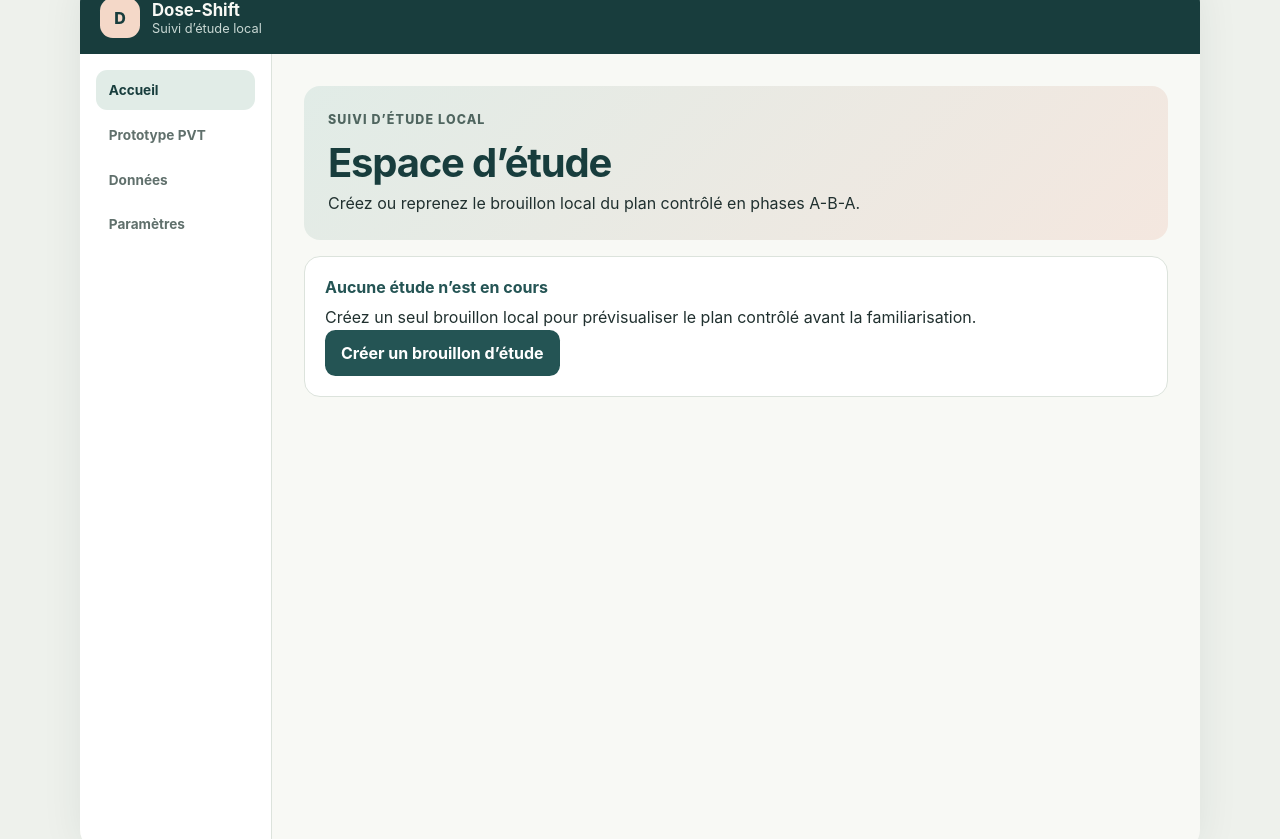
Test: draft study setup › shows localized validation and the non-seven-day notice in French
Click the button "Créer un brouillon d’étude" at [442, 353], box x1=325 y1=330 x2=560 y2=376
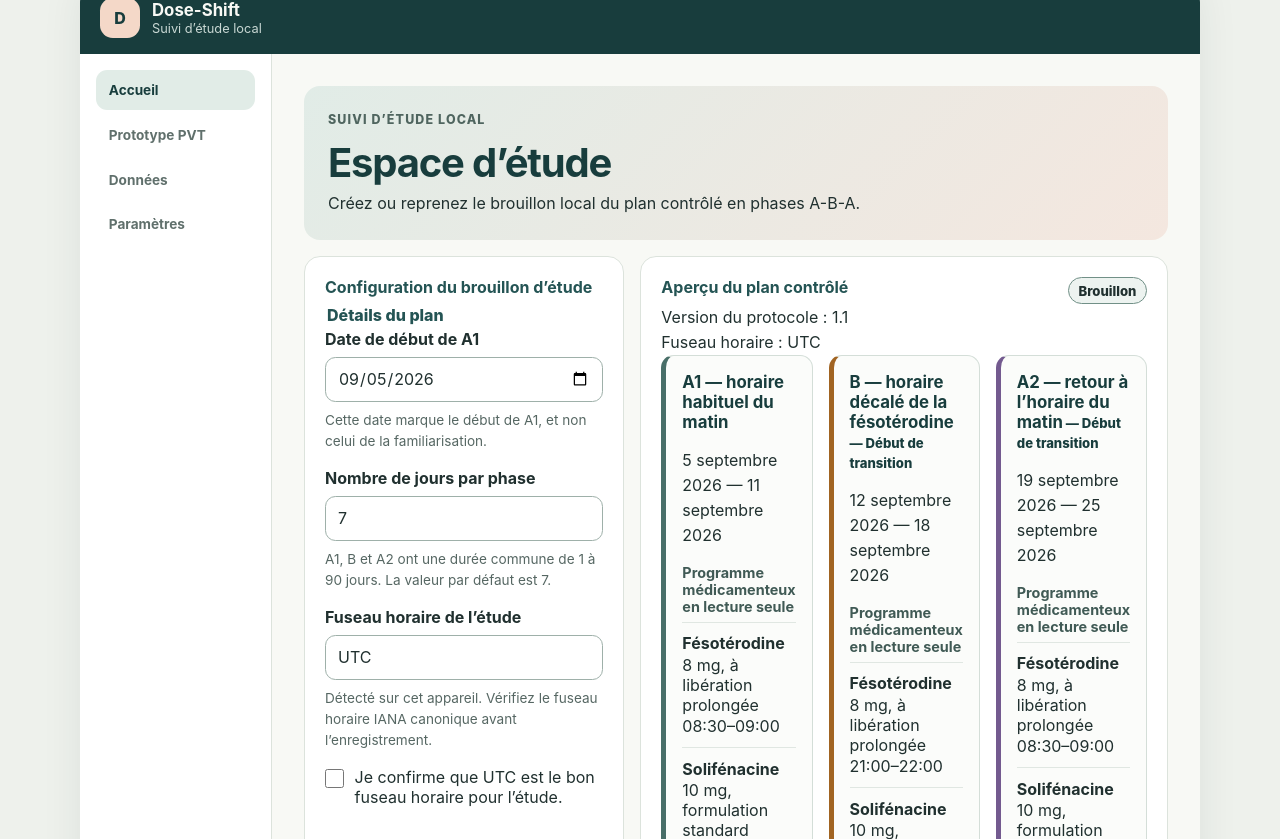
Replace the text in the number field labelled "Nombre de jours par phase" with "1" at [464, 518], box x1=325 y1=496 x2=603 y2=541
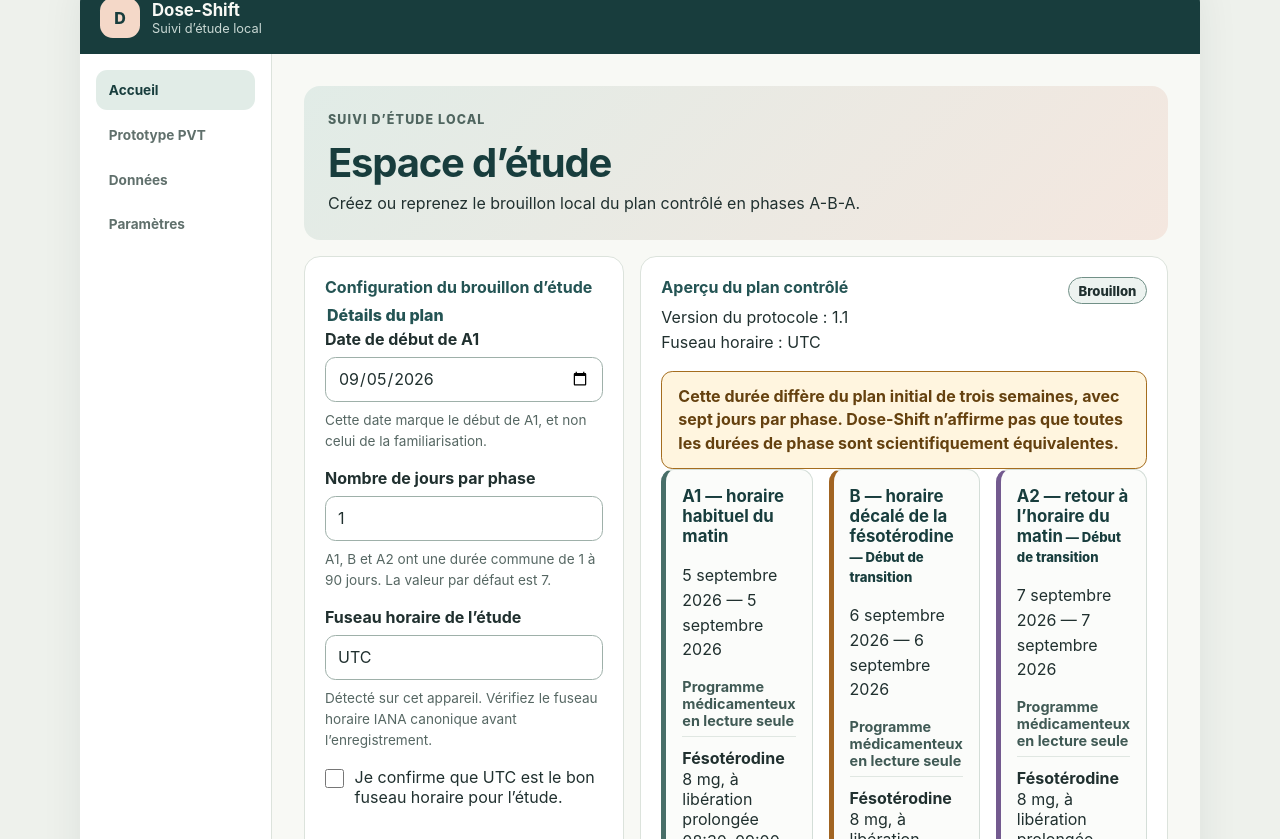
Now the heading "B — horaire décalé de la fésotérodine — Début de transition" is shown, box x1=850 y1=486 x2=963 y2=586
Now the message shows "n’affirme pas que toutes les durées", box x1=678 y1=386 x2=1123 y2=452
Replace the text in the number field labelled "Nombre de jours par phase" with "91" at [464, 518], box x1=325 y1=496 x2=603 y2=541
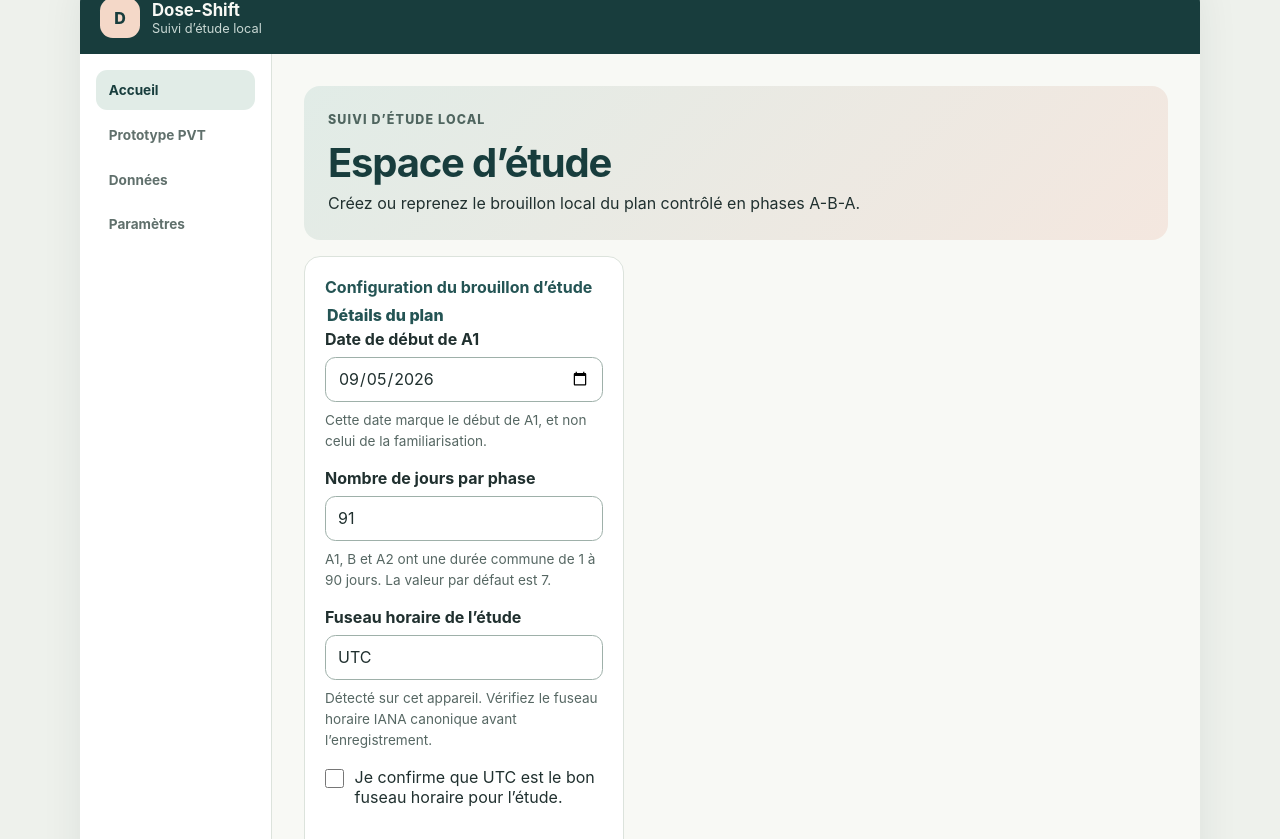
Replace the text in the field labelled "Fuseau horaire de l’étude" with "Invalide/Zone" at [464, 657], box x1=325 y1=635 x2=603 y2=680
(page scrolled)
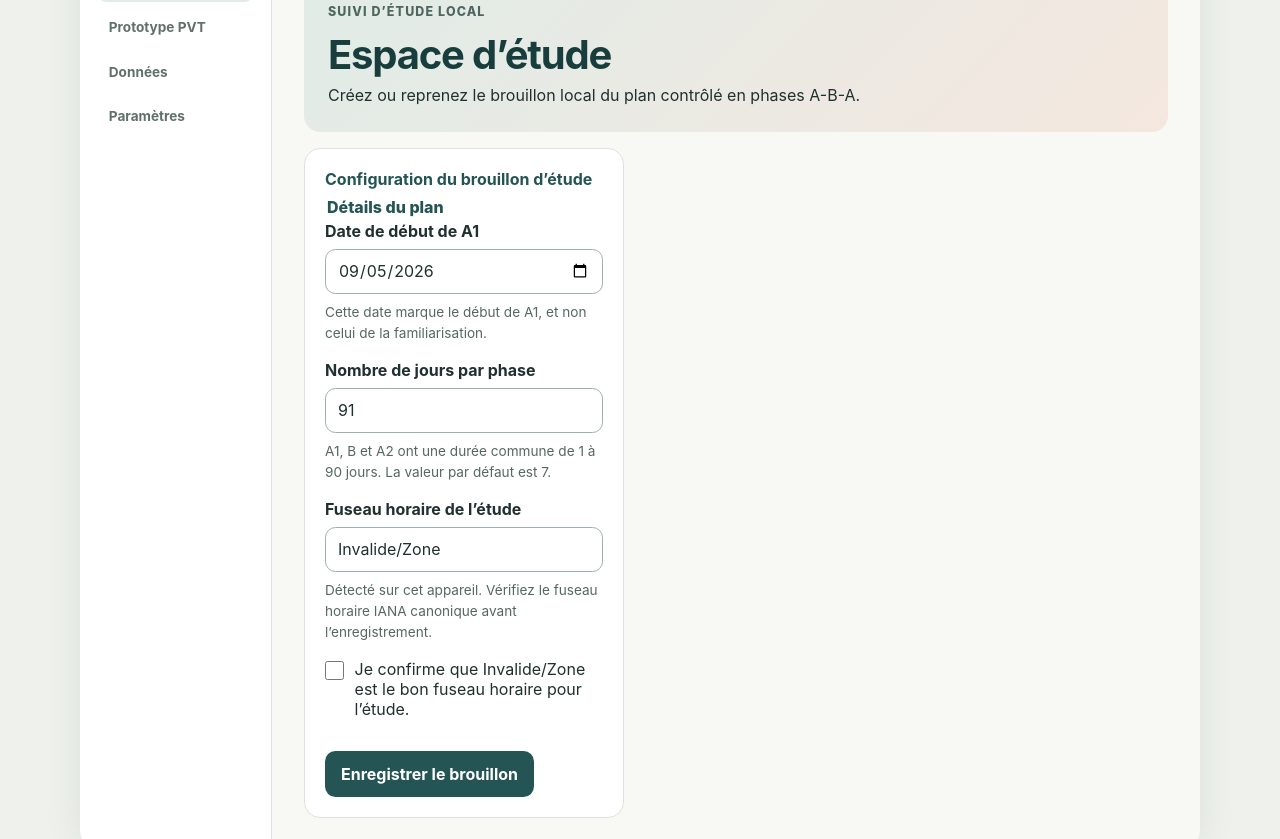
Click the button "Enregistrer le brouillon" at [430, 774], box x1=325 y1=751 x2=534 y2=797
(page scrolled)
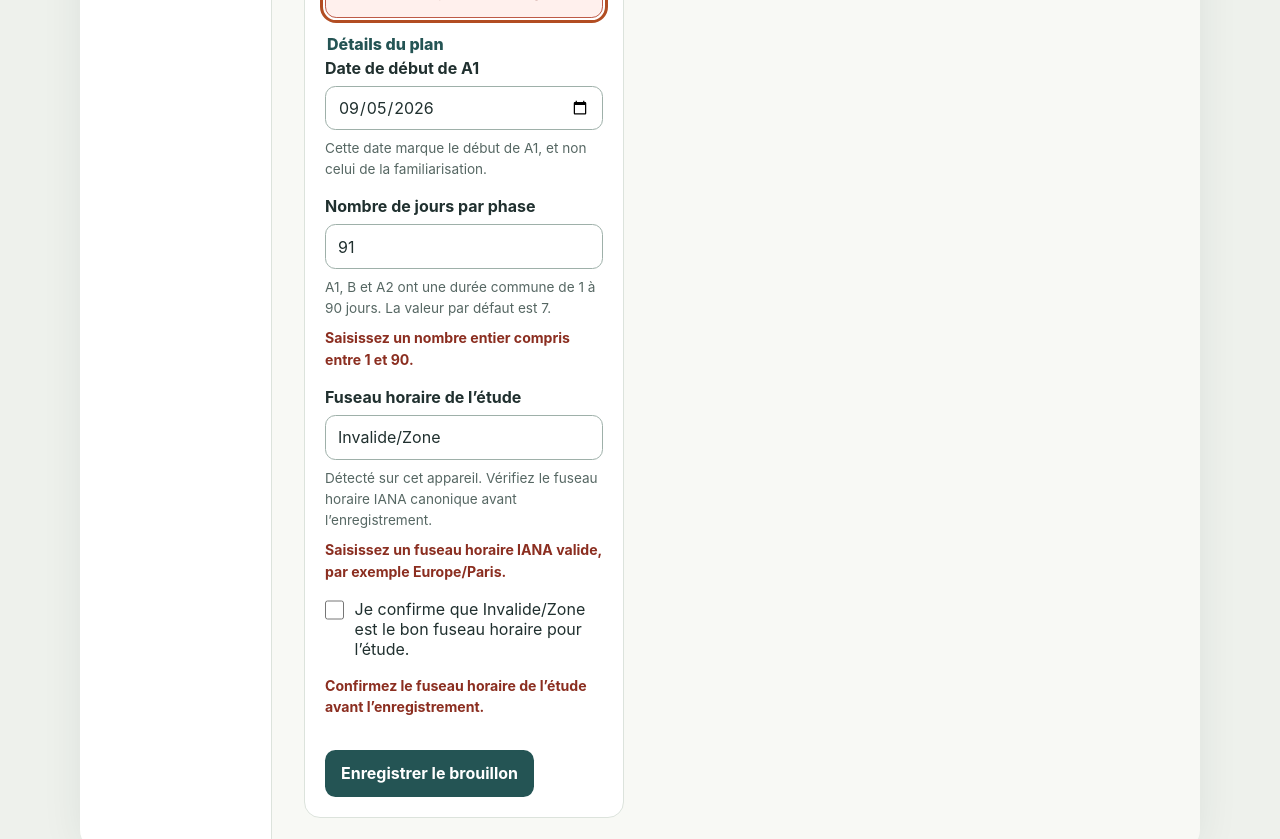
Now the text "Saisissez un nombre entier compris entre 1 et 90." is shown, box x1=325 y1=327 x2=603 y2=371
Now the text "fuseau horaire IANA valide" is shown, box x1=325 y1=541 x2=602 y2=580
Now the text "Confirmez le fuseau horaire" is shown, box x1=325 y1=677 x2=587 y2=715
